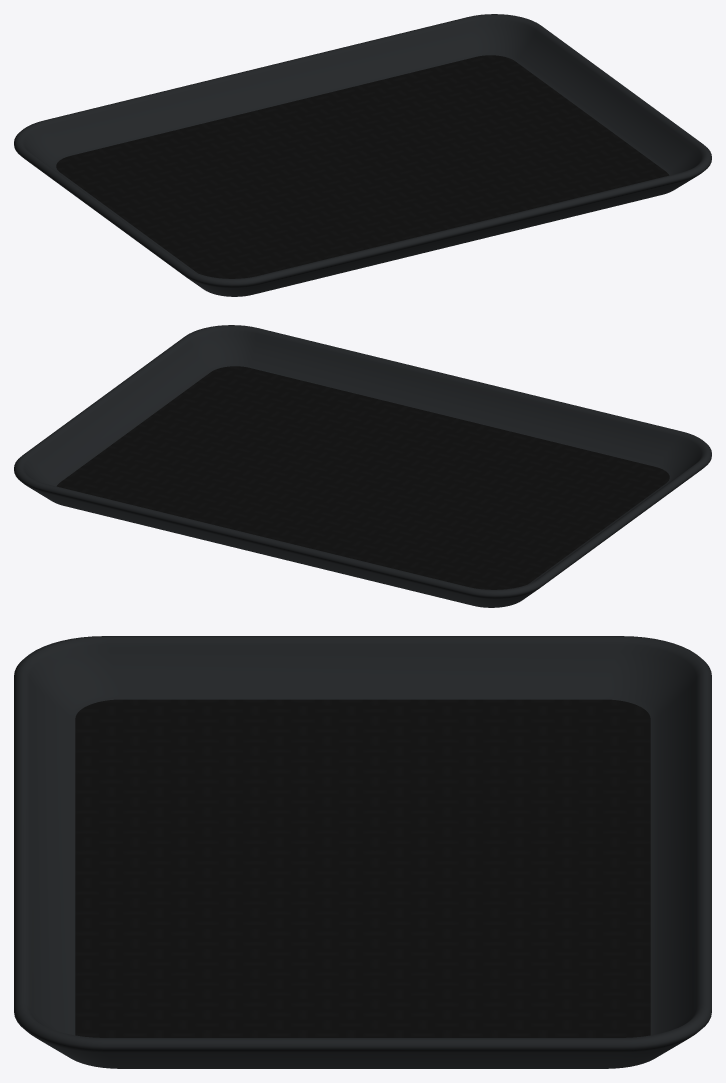
File: black_cafeteria_tray.glb
The picture shows the model from 3 angles, top to bottom: view 1: azimuth 30°, elevation 25°; view 2: azimuth 150°, elevation 25°; view 3: azimuth 270°, elevation 25°; orthographic projection. The views are drawn at different scales.
Visible parts, largest first — view 1: Black cafeteria serving tray; view 2: Black cafeteria serving tray; view 3: Black cafeteria serving tray.
Part boxes in pixels (x1,y1,x2,y2): Black cafeteria serving tray: (14, 14, 711, 296); Black cafeteria serving tray: (14, 325, 711, 607); Black cafeteria serving tray: (14, 636, 711, 1068).
Bounding box in the file's own units: 0.504 × 0.031 × 0.364.
Materials: 2 (1 with a texture image).
